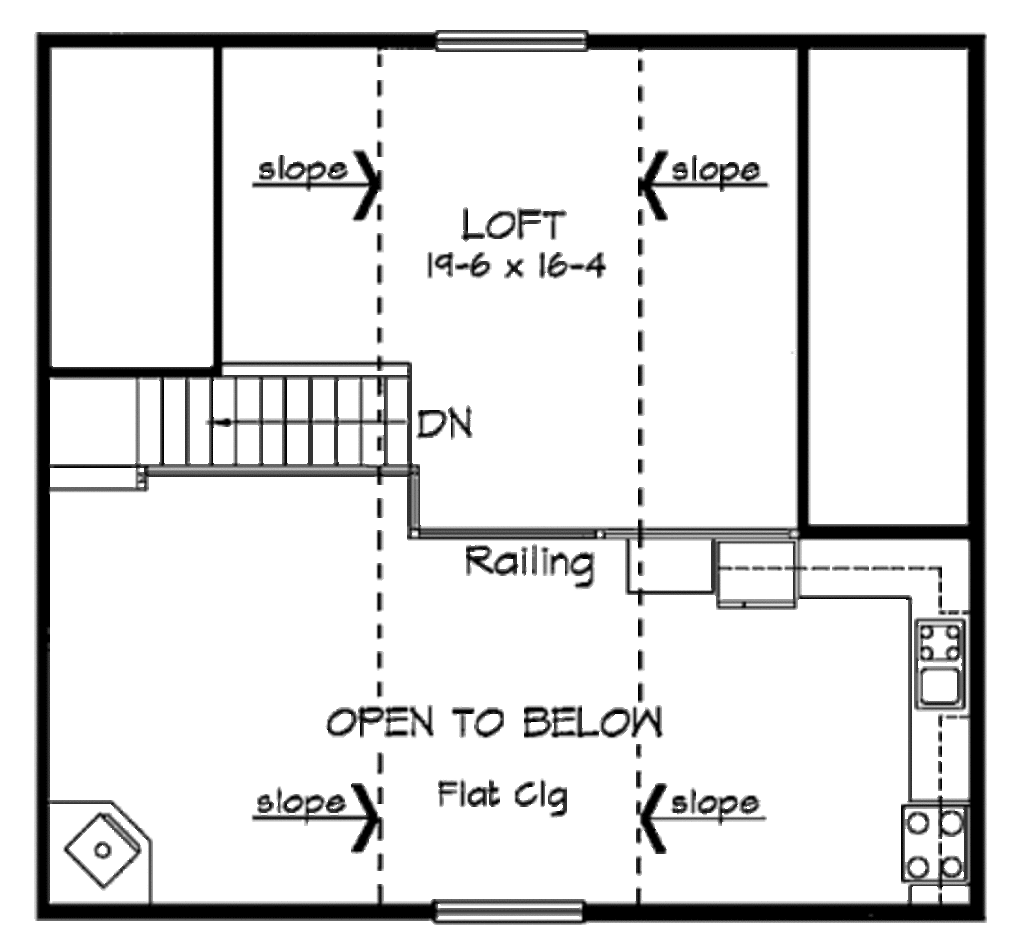stairs: (46, 363, 415, 504)
window: (430, 892, 592, 930), (427, 21, 594, 56)
